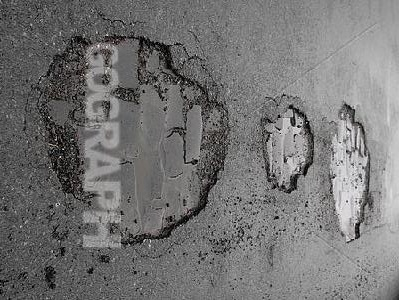pothole: (37, 28, 236, 248), (334, 100, 371, 244), (261, 102, 317, 195)
